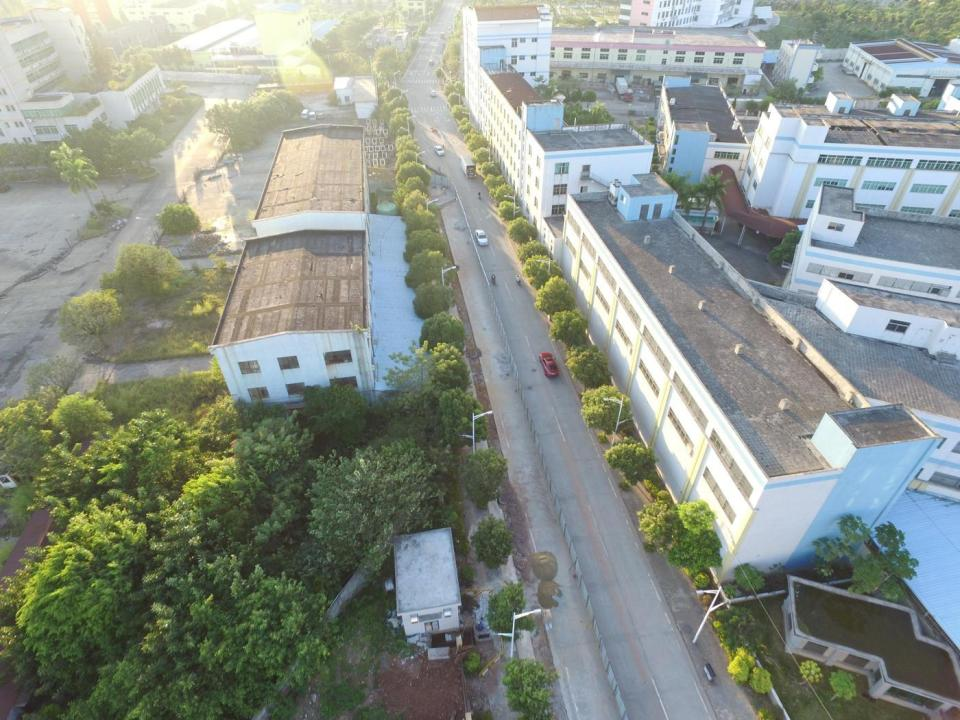car: (538, 352, 560, 378), (475, 229, 488, 247), (434, 146, 444, 156), (318, 113, 324, 120), (430, 90, 436, 97), (429, 59, 434, 66)
truck: (614, 77, 634, 103), (460, 155, 477, 178), (652, 80, 663, 100), (440, 32, 445, 39)
van: (301, 108, 309, 120), (309, 111, 316, 122)
